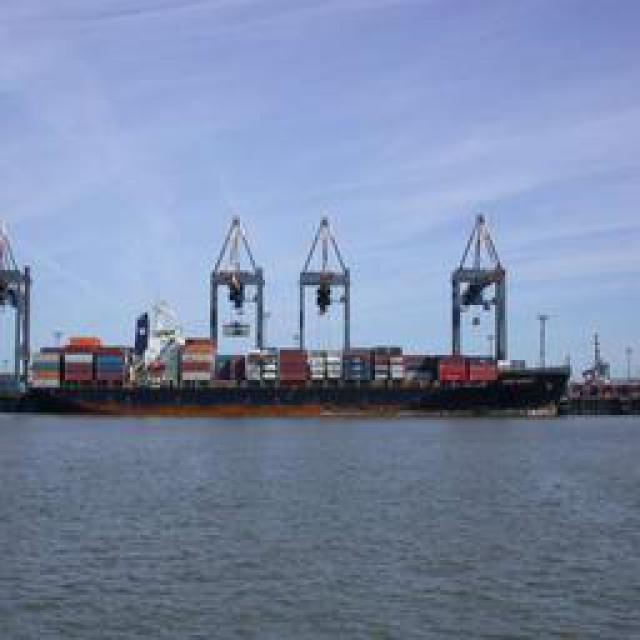Ship: (5, 210, 580, 420)
